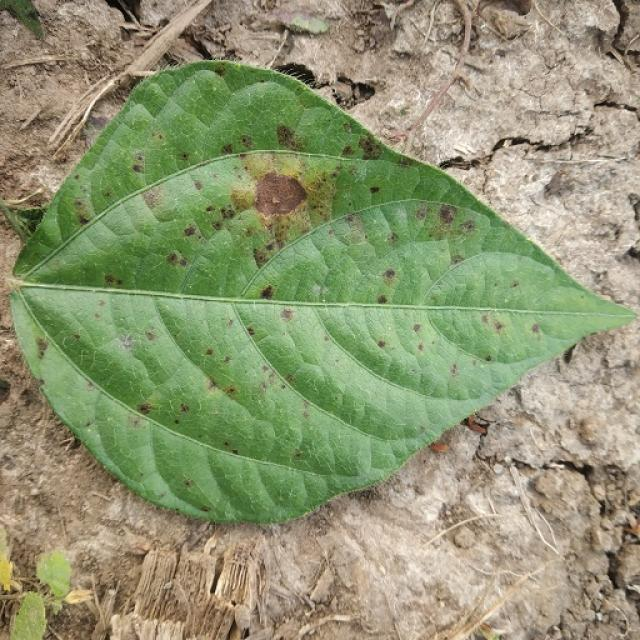Anthracnose: (246, 173, 307, 218), (229, 183, 257, 213), (276, 123, 303, 150), (357, 135, 384, 159), (141, 187, 161, 210), (4, 274, 28, 293), (465, 415, 488, 434), (438, 204, 458, 224), (166, 251, 188, 268), (103, 273, 123, 287), (35, 337, 49, 357), (119, 333, 135, 349), (459, 219, 476, 234), (239, 134, 253, 150), (260, 284, 274, 299), (280, 307, 294, 321), (213, 64, 228, 77), (137, 402, 152, 414), (183, 225, 197, 237), (383, 268, 396, 280), (221, 143, 234, 155), (493, 320, 505, 332), (206, 379, 218, 391), (193, 180, 204, 191), (145, 331, 157, 341), (246, 326, 256, 336), (179, 403, 189, 413), (377, 295, 388, 304), (226, 386, 237, 395), (369, 186, 380, 195), (531, 323, 540, 334), (413, 323, 422, 333), (204, 348, 214, 356), (377, 340, 386, 348), (485, 355, 492, 362)
Blackgram: (10, 61, 632, 521)
